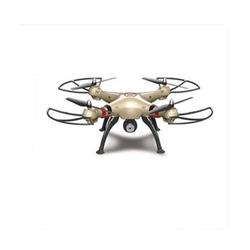drone: (47, 73, 215, 158)
